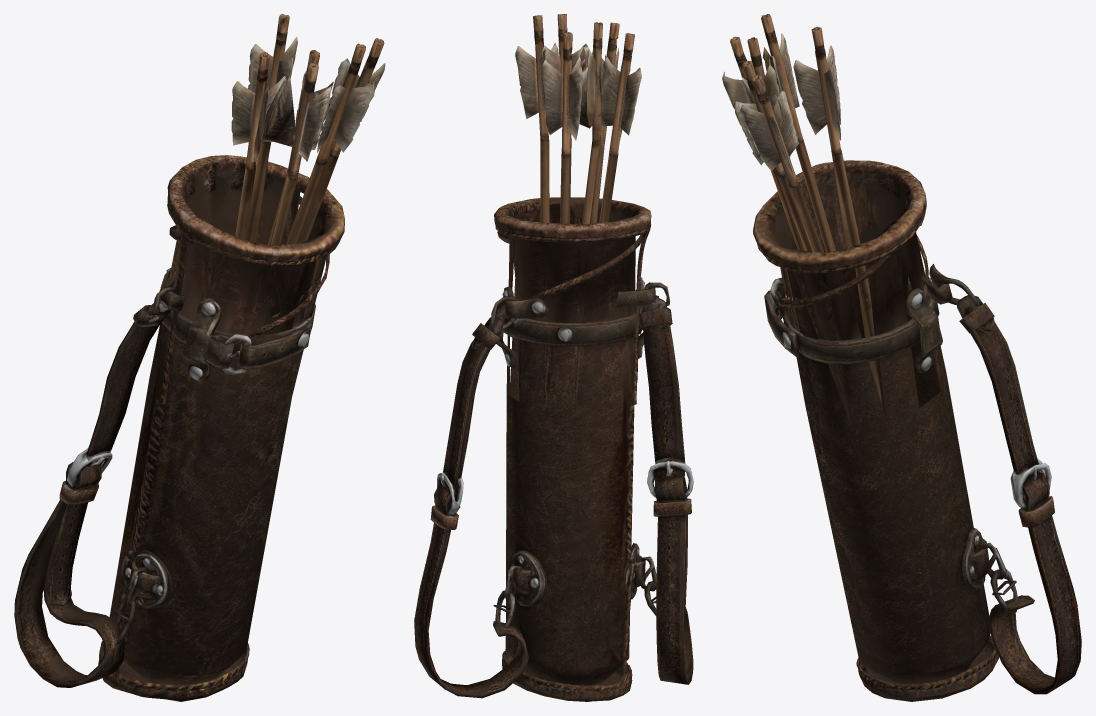
The model's file is quiver.glb.
3 renders of one model, left to right at view 1: azimuth 30°, elevation 25°; view 2: azimuth 150°, elevation 25°; view 3: azimuth 270°, elevation 25°, orthographic. The views are drawn at different scales.
Visible parts, largest first — view 1: tripo_node_2f553791-6994-4a58-8c09-67d0d677bd5b; view 2: tripo_node_2f553791-6994-4a58-8c09-67d0d677bd5b; view 3: tripo_node_2f553791-6994-4a58-8c09-67d0d677bd5b.
Boxes of the visible parts, <box> form: tripo_node_2f553791-6994-4a58-8c09-67d0d677bd5b: <box>14,14,385,701</box>; tripo_node_2f553791-6994-4a58-8c09-67d0d677bd5b: <box>414,14,693,701</box>; tripo_node_2f553791-6994-4a58-8c09-67d0d677bd5b: <box>722,14,1081,701</box>.
Bounding box in the file's own units: 0.4272 × 0.9995 × 0.48.
Materials: 1 (1 with a texture image).
